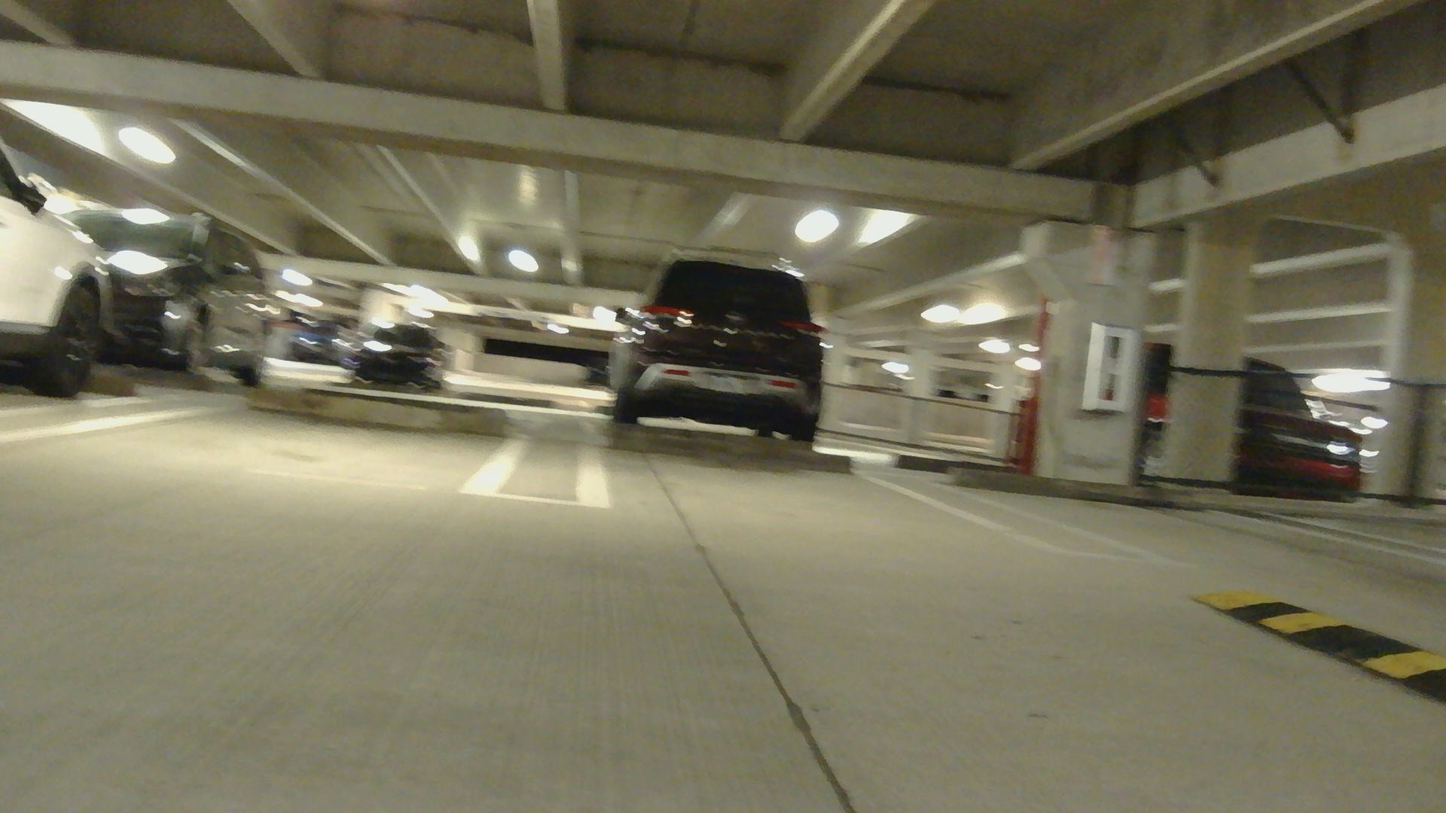empty_spot: (898, 358, 1446, 663), (558, 437, 1124, 570), (0, 376, 559, 501), (1194, 408, 1446, 575)
occupied_spot: (0, 130, 127, 414)
